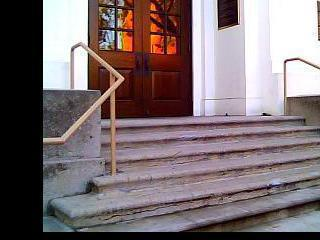Escaleras: (43, 115, 320, 231)
